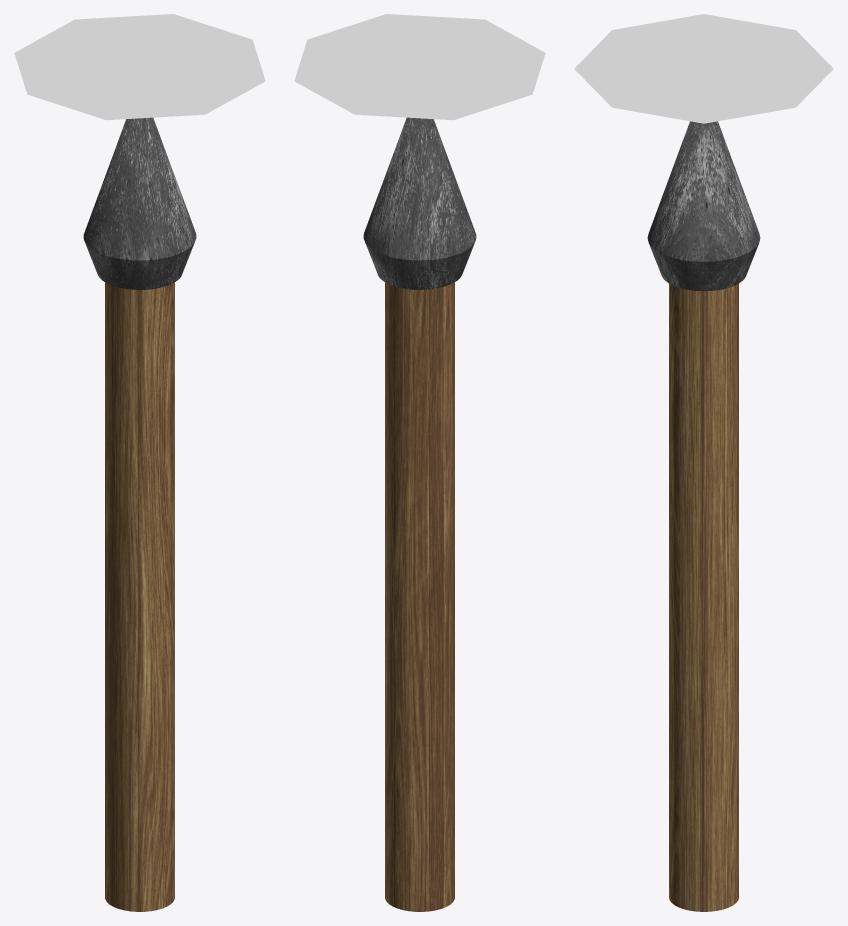
Rendered from Arrow.fbx.
3 views of the same model, side by side, from view 1: azimuth 30°, elevation 25°; view 2: azimuth 150°, elevation 25°; view 3: azimuth 270°, elevation 25° (orthographic).
Visible parts, largest first — view 1: Arrow, Hole; view 2: Arrow, Hole; view 3: Arrow, Hole.
Boxes of the visible parts, x1,y1,x2,y2 form: Arrow: [83, 117, 196, 911]; Hole: [14, 14, 265, 120]; Arrow: [363, 117, 476, 911]; Hole: [294, 14, 545, 120]; Arrow: [647, 121, 760, 911]; Hole: [574, 14, 833, 123].
Bounding box in the file's own units: 12.97 × 46 × 12.97.
